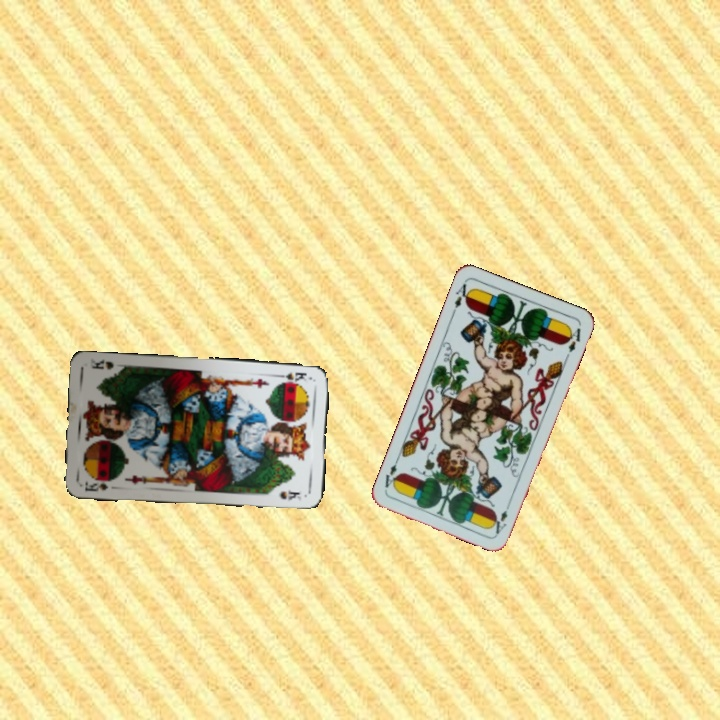EA: (448, 279, 475, 317), (492, 497, 513, 537)
SK: (273, 368, 309, 384), (80, 476, 111, 494)
